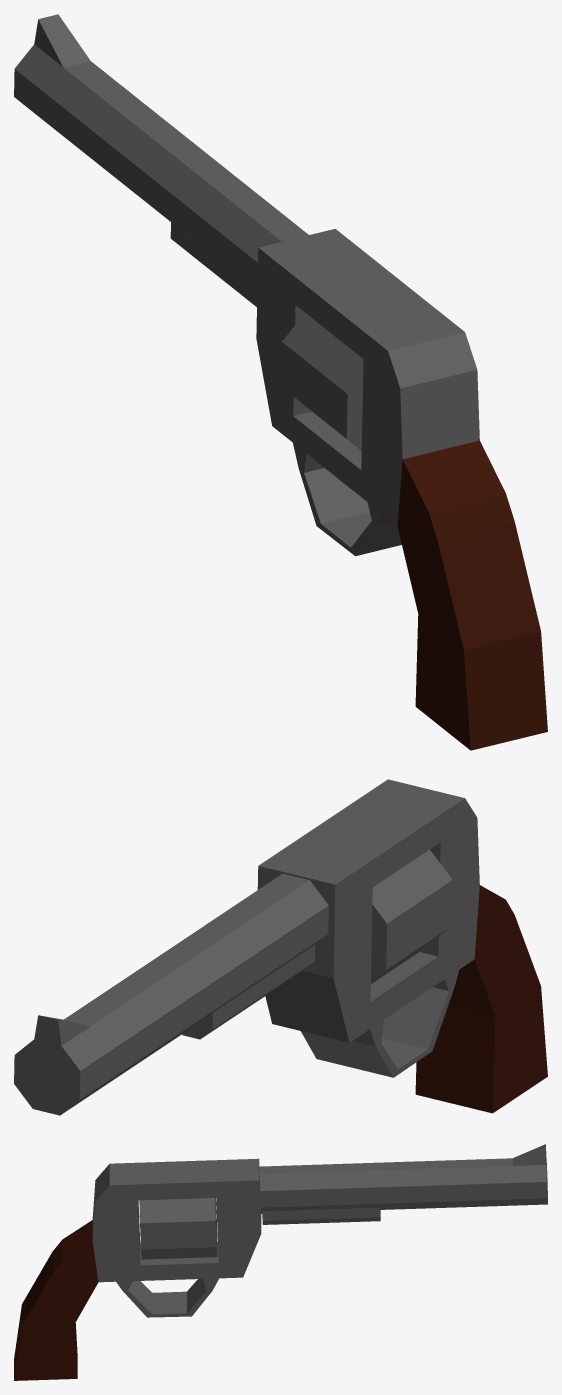
The model's file is gun.fbx.
3 views of the same model, one above another, from view 1: azimuth 30°, elevation 25°; view 2: azimuth 150°, elevation 25°; view 3: azimuth 270°, elevation 25° (orthographic). The views are drawn at different scales.
Visible parts, largest first — view 1: Gun; view 2: Gun; view 3: Gun.
Boxes of the visible parts, x1=… form: Gun: x1=14, y1=14, x2=547, y2=750; Gun: x1=14, y1=779, x2=547, y2=1115; Gun: x1=14, y1=1144, x2=547, y2=1380.
Size of the model in its own units: 0.0924 by 0.3249 by 0.7044.
Materials: 1 (1 with a texture image).
